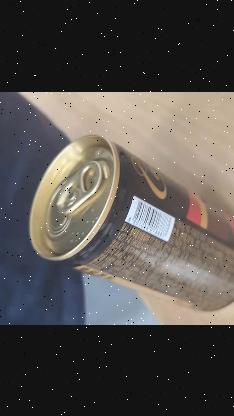Can: (31, 136, 234, 310)
